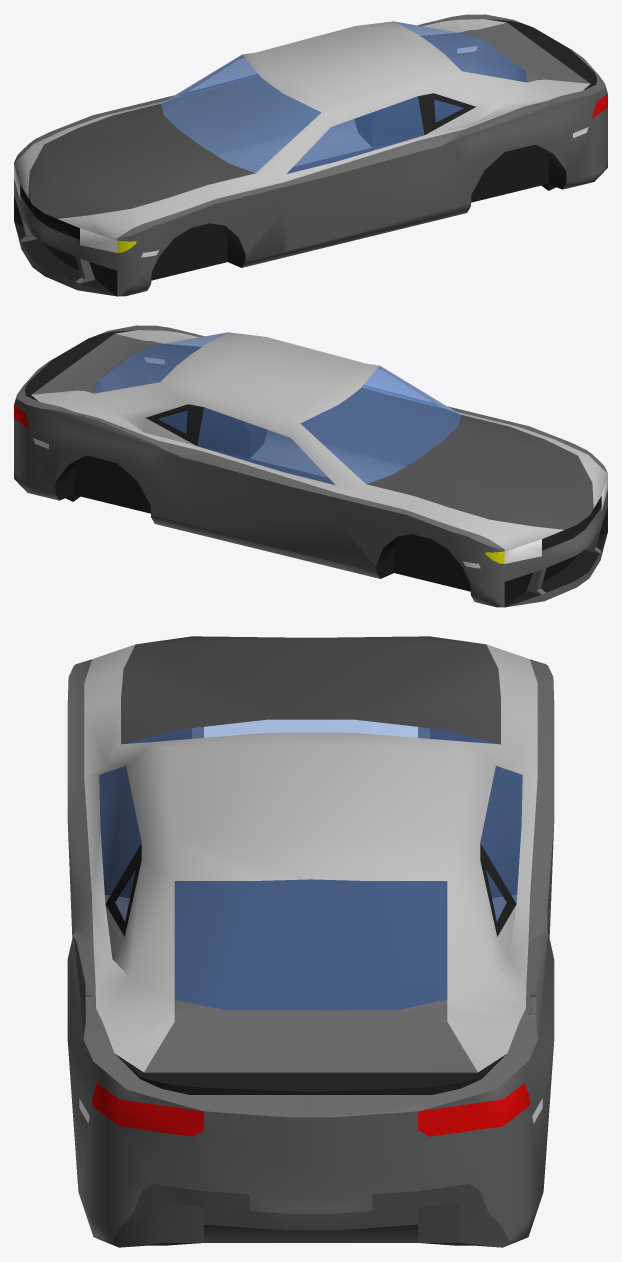
The model's file is muscle car.fbx.
The picture shows the model from 3 angles, top to bottom: view 1: azimuth 30°, elevation 25°; view 2: azimuth 150°, elevation 25°; view 3: azimuth 270°, elevation 25°; orthographic projection. The views are drawn at different scales.
Parts seen in each view (by area): view 1: _(Loose Entity); view 2: _(Loose Entity); view 3: _(Loose Entity).
Boxes of the visible parts, x1,y1,x2,y2 form: _(Loose Entity): [14, 14, 607, 296]; _(Loose Entity): [14, 325, 607, 607]; _(Loose Entity): [67, 636, 554, 1247].
Bounding box in the file's own units: 503 × 123 × 197.
